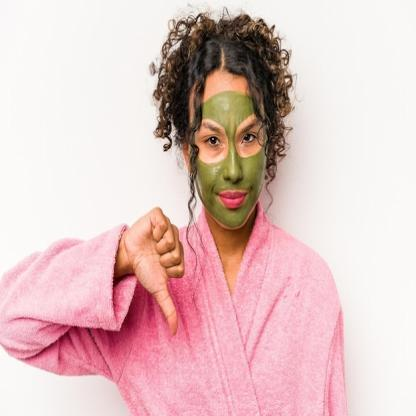thumb_down: (123, 202, 189, 340)
